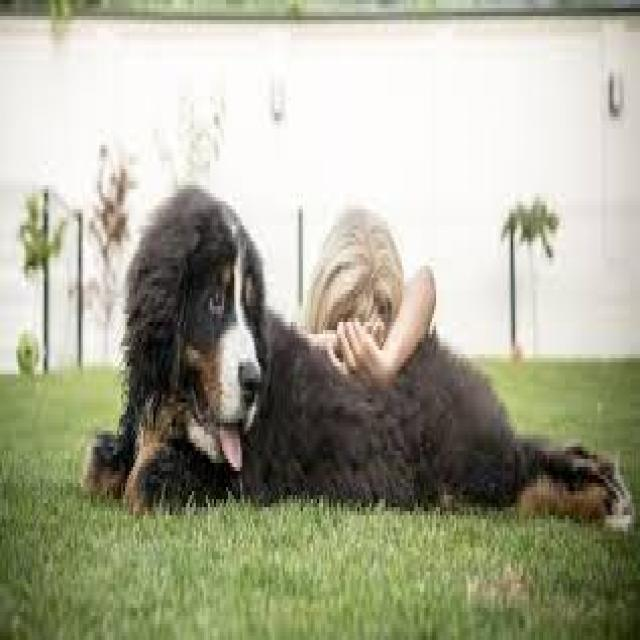Dog: (82, 179, 304, 530)
